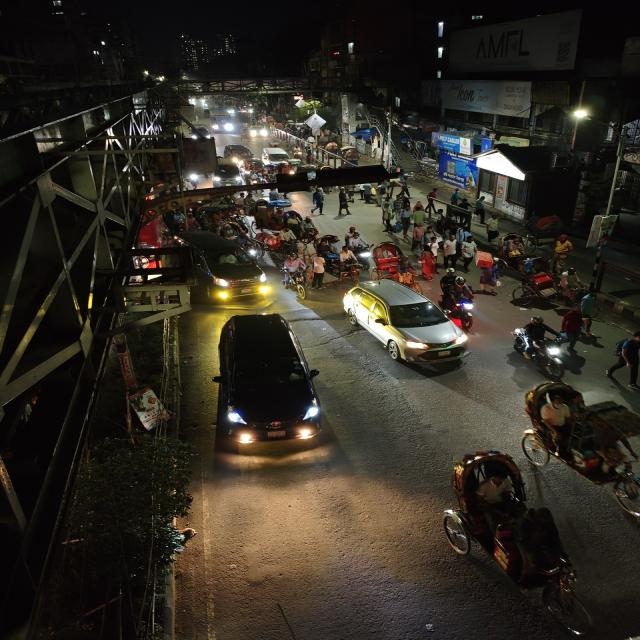bus: (208, 107, 237, 135)
car: (212, 310, 324, 470), (341, 279, 472, 370), (177, 232, 270, 306), (212, 162, 244, 186), (259, 144, 293, 165), (224, 143, 255, 165), (186, 123, 213, 141)
motorcycle: (511, 315, 574, 378), (441, 275, 478, 315), (279, 254, 309, 302)
pedestrian: (609, 327, 640, 397), (559, 306, 591, 348), (577, 291, 604, 333), (412, 227, 437, 266), (480, 259, 506, 294), (549, 234, 576, 264), (418, 244, 440, 280), (474, 250, 494, 288), (438, 235, 461, 268), (421, 238, 443, 272), (308, 254, 328, 288), (408, 223, 429, 253), (334, 187, 354, 217), (462, 235, 479, 268), (309, 188, 326, 216), (484, 214, 500, 242), (359, 182, 377, 206), (299, 237, 315, 263)
rickshaw: (437, 443, 593, 620), (513, 373, 640, 528), (516, 269, 576, 309), (370, 240, 416, 285), (317, 233, 358, 281), (498, 232, 528, 263)
